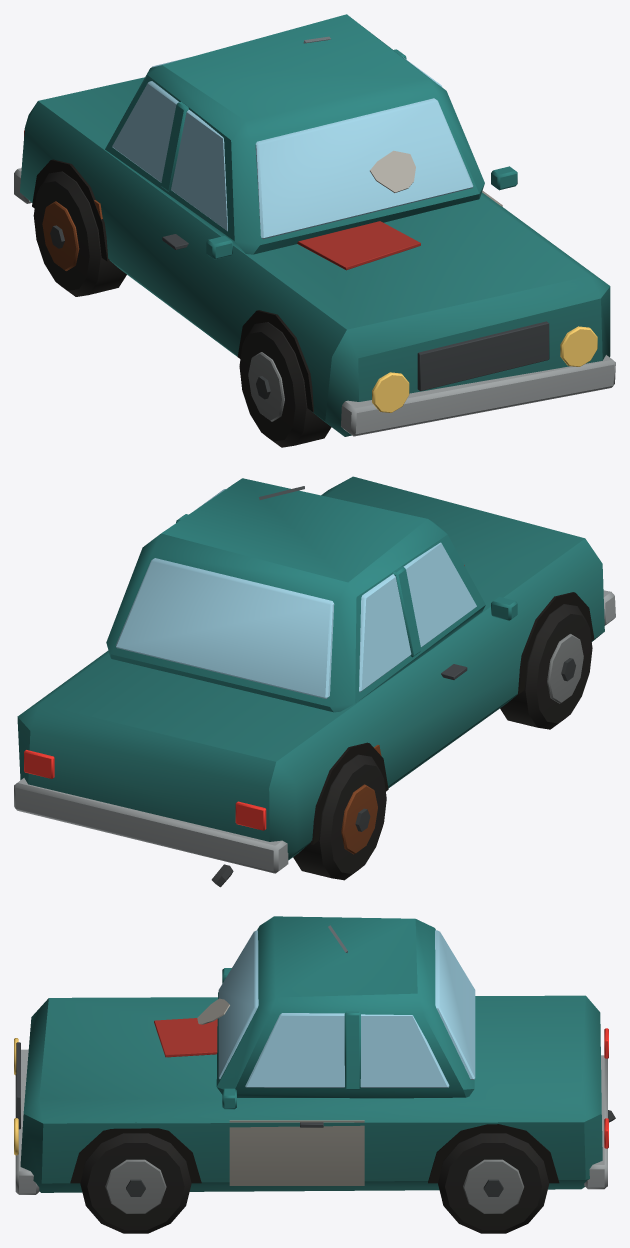
Rendered from 17_vieille_voiture.fbx.
3 renders of one model, top to bottom at view 1: azimuth 30°, elevation 25°; view 2: azimuth 150°, elevation 25°; view 3: azimuth 270°, elevation 25°, orthographic. The views are drawn at different scales.
Parts seen in each view (by area): view 1: Carrosserie, Vitres, Roue_ArD, Roue_AvD, Phares; view 2: Carrosserie, Vitres, Roue_ArD, Roue_AvD, FeuxArriere; view 3: Carrosserie, Vitres, Roue_AvG, Roue_ArG.
Part boxes in pixels (bbox=[...]): Carrosserie: bbox=[14, 14, 615, 436]; Vitres: bbox=[112, 57, 473, 239]; Roue_ArD: bbox=[33, 171, 126, 296]; Roue_AvD: bbox=[239, 322, 331, 447]; Phares: bbox=[372, 326, 597, 412]; Carrosserie: bbox=[14, 476, 615, 887]; Vitres: bbox=[115, 489, 476, 698]; Roue_ArD: bbox=[293, 754, 386, 880]; Roue_AvD: bbox=[500, 604, 592, 729]; FeuxArriere: bbox=[24, 750, 266, 830]; Carrosserie: bbox=[15, 916, 615, 1194]; Vitres: bbox=[197, 930, 475, 1087]; Roue_AvG: bbox=[80, 1133, 191, 1233]; Roue_ArG: bbox=[438, 1133, 549, 1233].
Bounding box in the file's own units: 1.46 × 1.29 × 2.83.
Materials: 1 (1 with a texture image).
